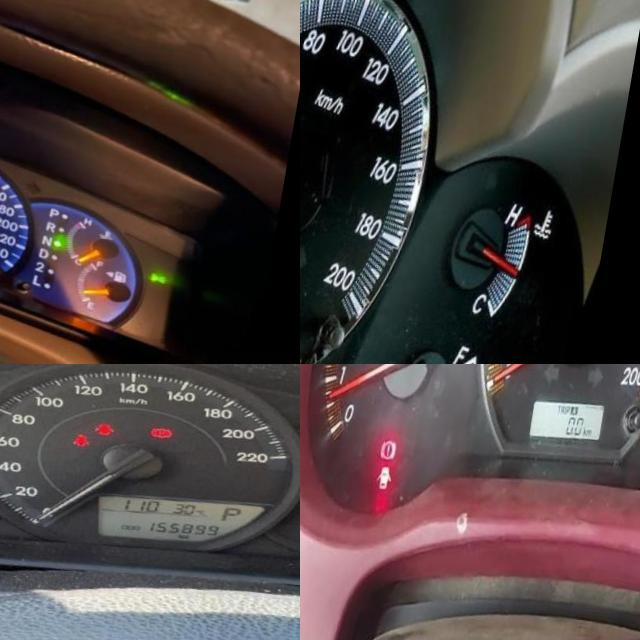Seat Belt: (82, 426, 100, 440)
